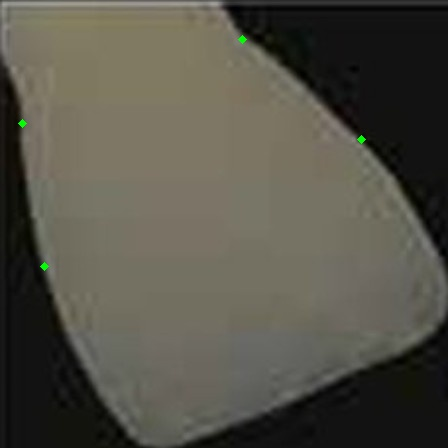coin_1: (22, 123, 42, 143)
coin_2: (44, 266, 64, 286)
coin_3: (242, 39, 262, 59)
coin_4: (361, 139, 381, 159)
